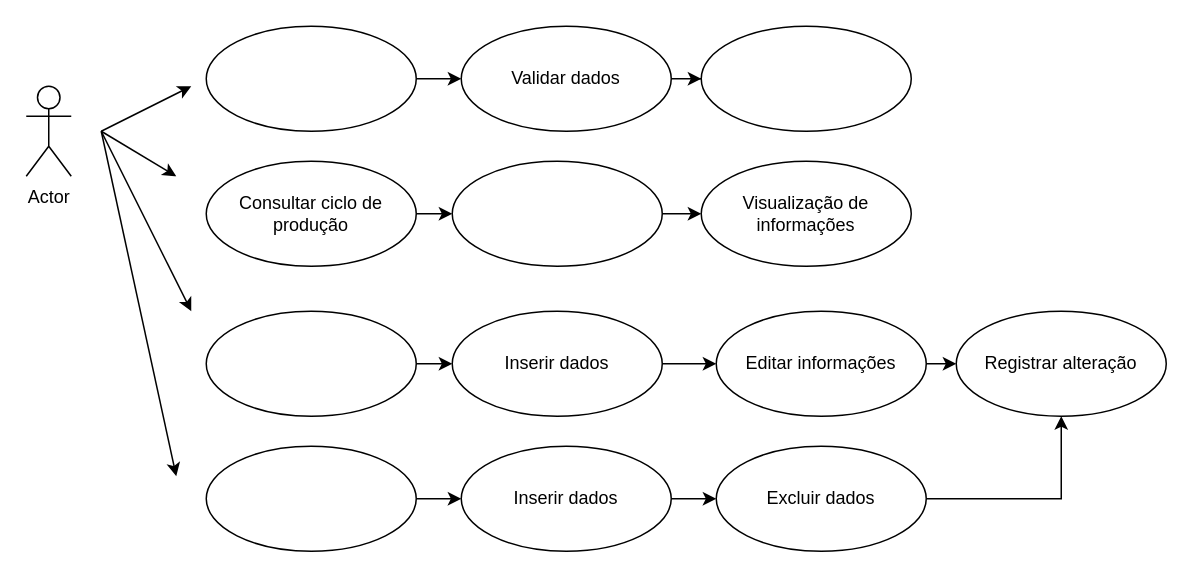
This 1193x578 diagram has some shape labels left out. The centre of each missing label's shape, as x and y in pixels:
Atribuir filtro de busca: (x=556, y=213)
Atualizar produção: (x=310, y=363)
Cadastrar produção: (x=310, y=78)
Excluir produção: (x=310, y=498)
Registrar dados: (x=805, y=78)
